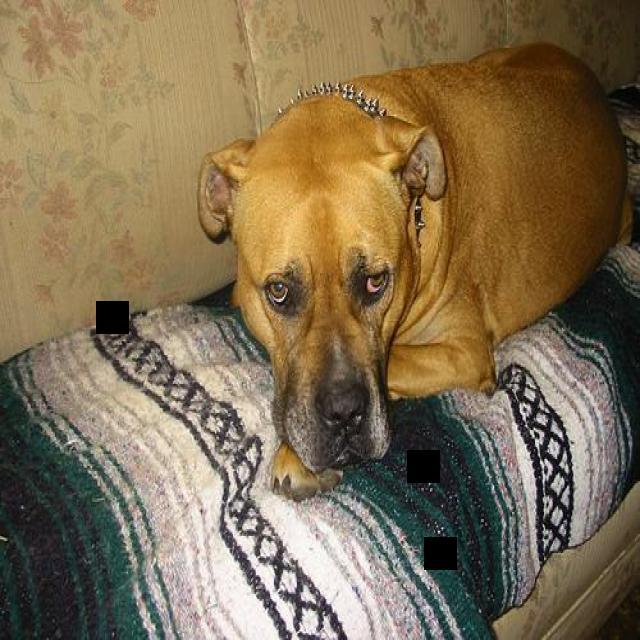adult_dog: (194, 38, 635, 505)
